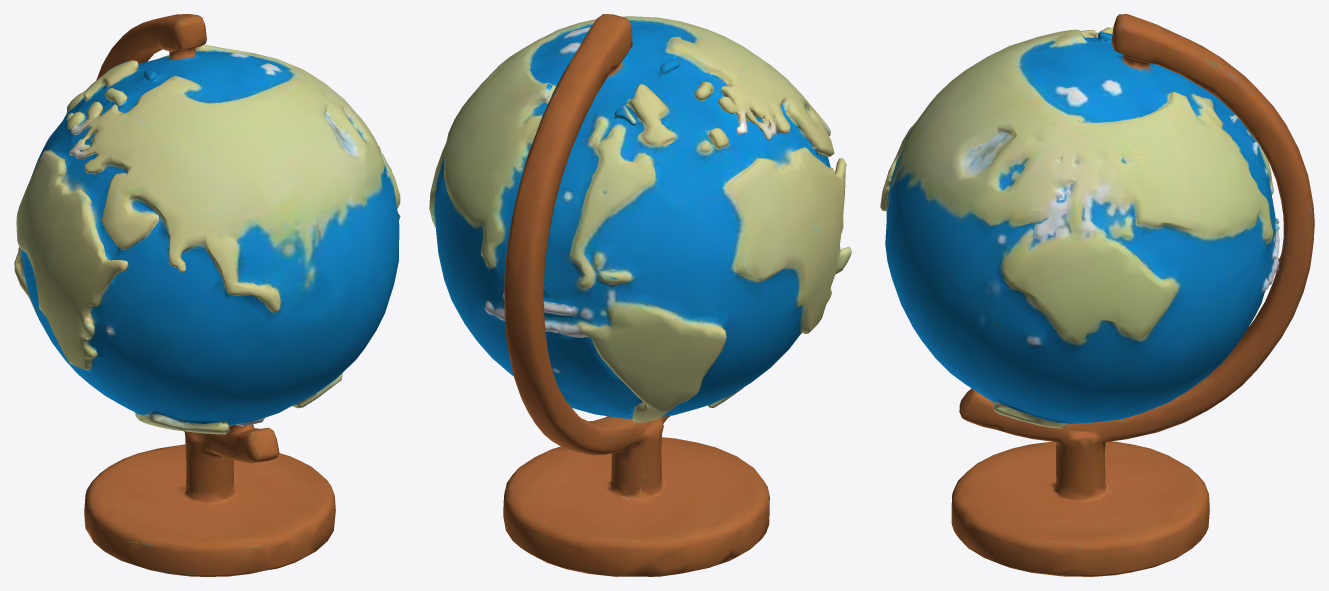
Rendered from globe.glb.
The picture shows the model from 3 angles, left to right: view 1: azimuth 30°, elevation 25°; view 2: azimuth 150°, elevation 25°; view 3: azimuth 270°, elevation 25°; orthographic projection. The views are drawn at different scales.
Bounding box in the file's own units: 0.7159 × 1.01 × 0.7834.
1 material, 1 textured.
